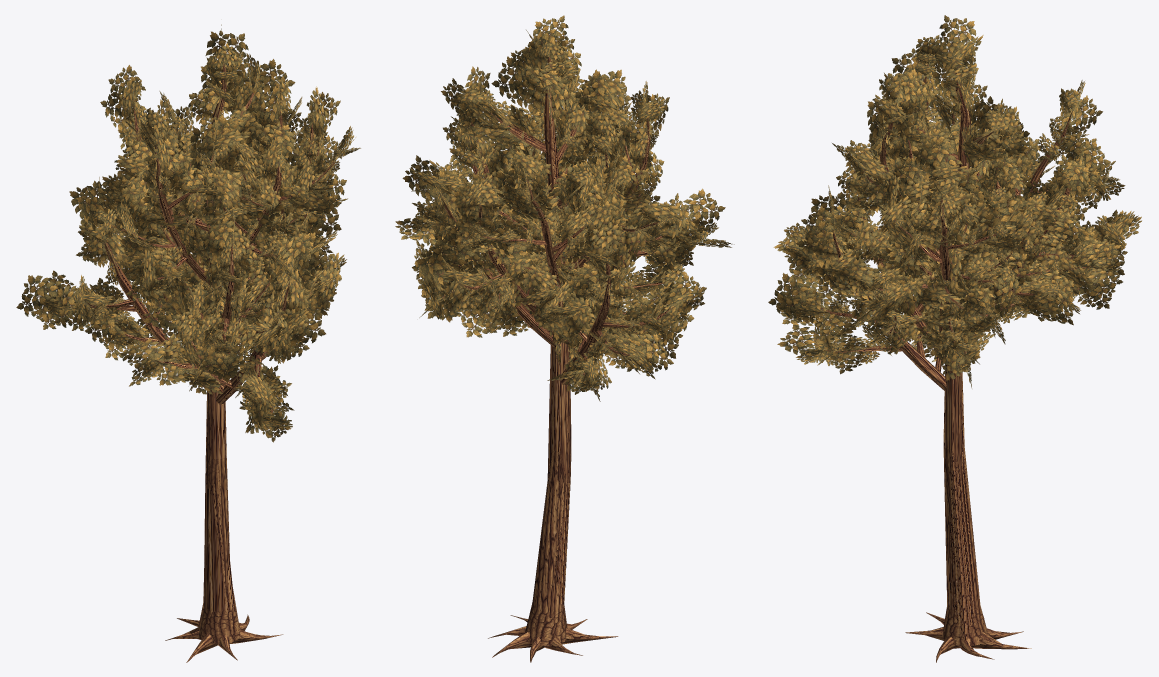
Rendered from tree1.glb.
3 renders of one model, left to right at view 1: azimuth 30°, elevation 25°; view 2: azimuth 150°, elevation 25°; view 3: azimuth 270°, elevation 25°, orthographic.
Parts seen in each view (by area): view 1: Leaves_LOD0 (×2), Branches_LOD0 (×2); view 2: Leaves_LOD0 (×2), Branches_LOD0 (×2); view 3: Leaves_LOD0 (×2), Branches_LOD0 (×2).
Boxes of the visible parts, x1,y1,x2,y2 form: Leaves_LOD0 (×2): (16, 24, 360, 442); Branches_LOD0 (×2): (62, 63, 336, 662); Leaves_LOD0 (×2): (395, 15, 734, 401); Branches_LOD0 (×2): (436, 56, 672, 662); Leaves_LOD0 (×2): (768, 15, 1141, 387); Branches_LOD0 (×2): (820, 61, 1107, 662).
Size of the model in its own units: 17.31 by 35.04 by 19.12.
Materials: 4 (4 with a texture image).
